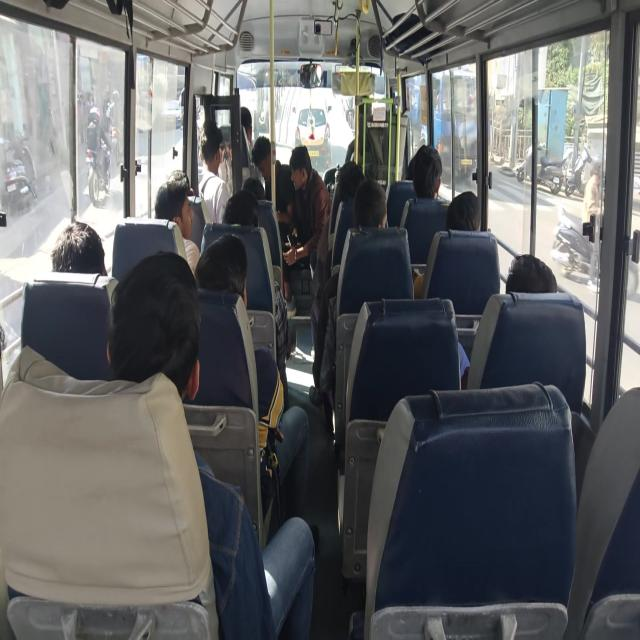person: (107, 242, 205, 401), (199, 221, 255, 322), (497, 235, 564, 302), (149, 166, 201, 246), (53, 212, 109, 283), (350, 172, 394, 235), (189, 108, 223, 180), (222, 184, 260, 236), (445, 193, 487, 238), (406, 142, 440, 192), (289, 136, 312, 199), (332, 159, 364, 202), (238, 161, 272, 199), (233, 96, 258, 147), (252, 124, 274, 180), (356, 92, 374, 137), (402, 149, 423, 184)
